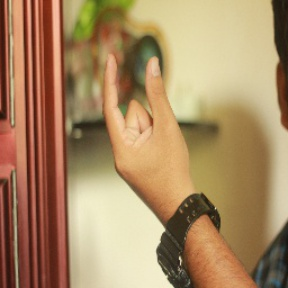U: (102, 51, 184, 194)
